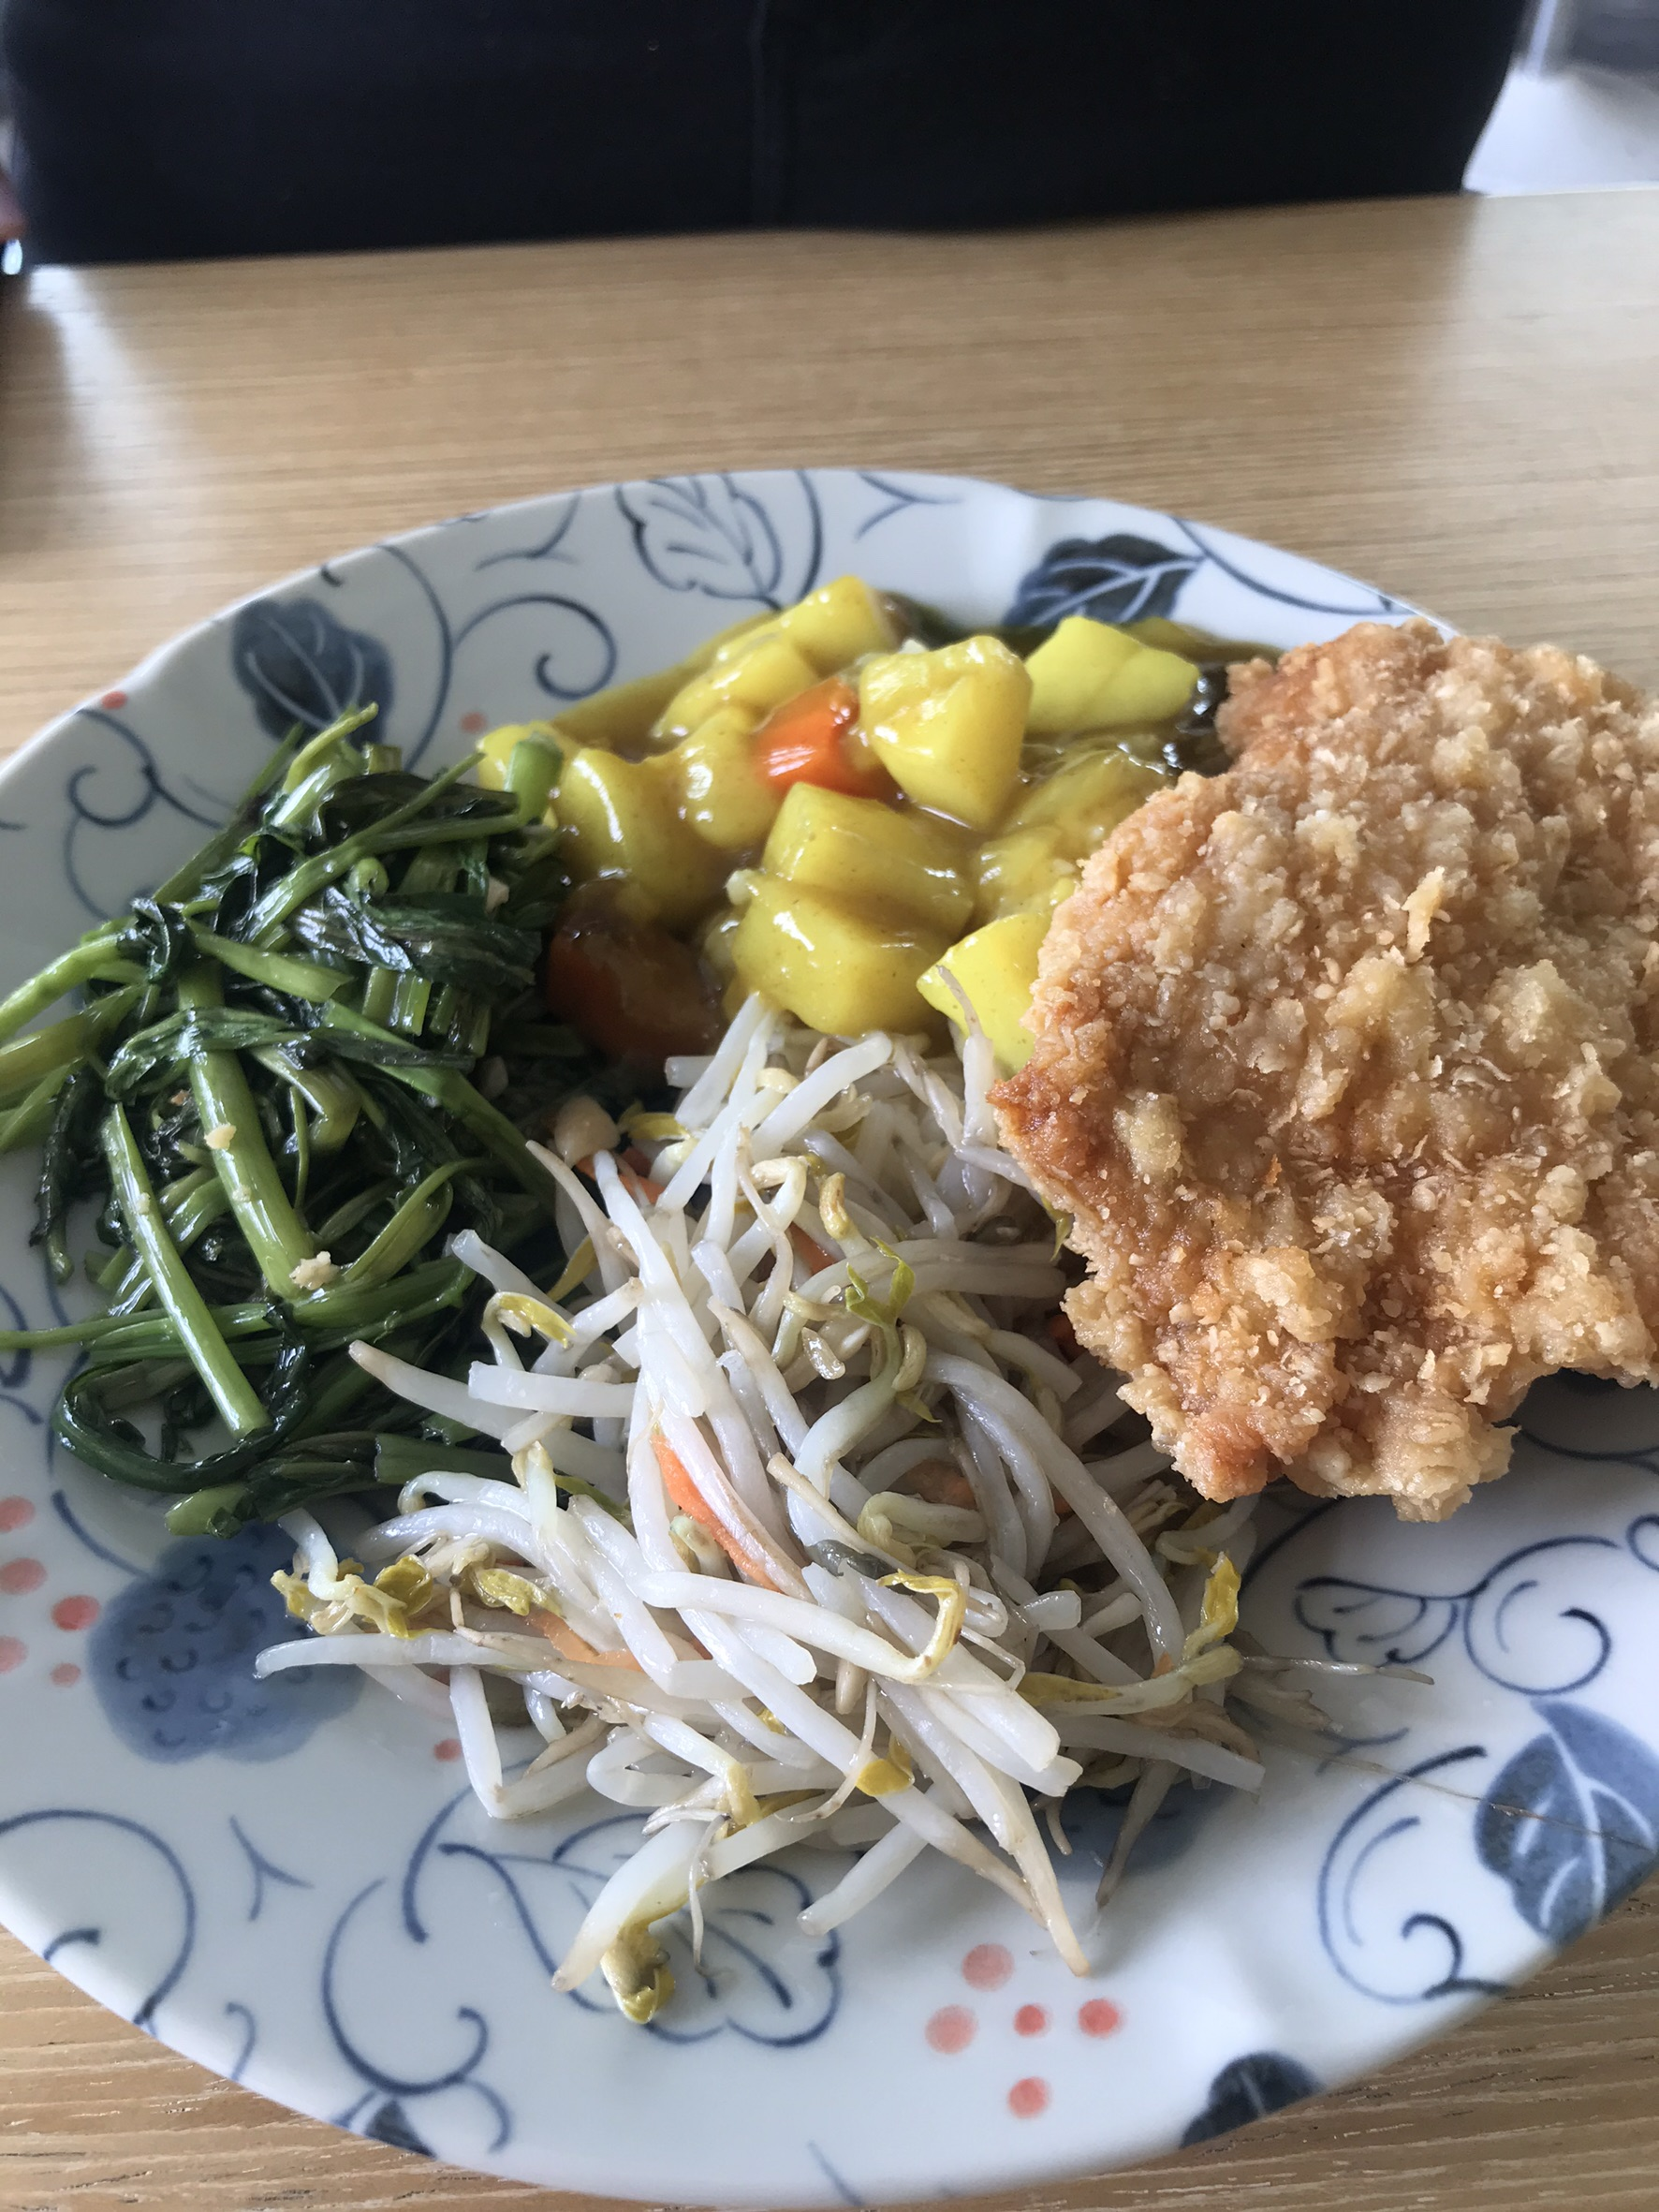curry: (572, 645, 1061, 971)
fried_chicken: (1112, 699, 1659, 1410)
mung_bean_sprouts: (477, 1107, 1110, 1829)
water_spinach: (71, 795, 509, 1377)
